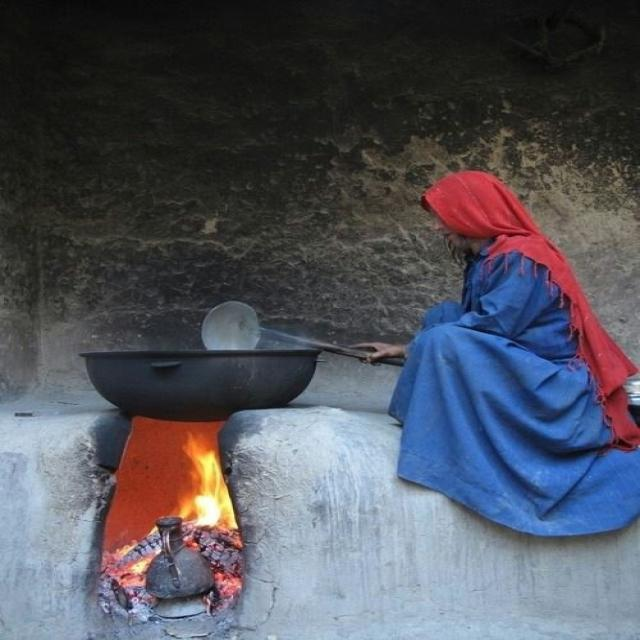fire: (176, 434, 238, 531)
